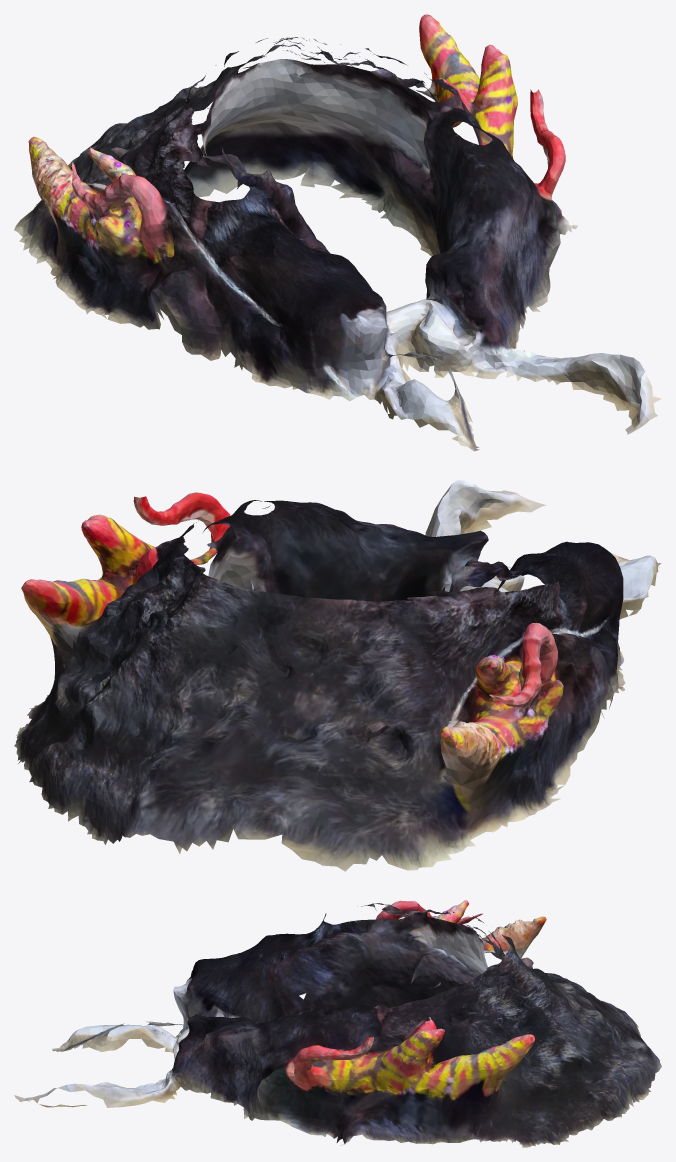
The model's file is Shuo_Xi.glb.
3 views of the same model, one above another, from view 1: azimuth 30°, elevation 25°; view 2: azimuth 150°, elevation 25°; view 3: azimuth 270°, elevation 25° (orthographic). The views are drawn at different scales.
Parts seen in each view (by area): view 1: Mesh_0; view 2: Mesh_0; view 3: Mesh_0.
Part boxes in pixels (x1,y1,x2,y2): Mesh_0: [14, 14, 661, 451]; Mesh_0: [14, 480, 661, 871]; Mesh_0: [14, 900, 661, 1147].
Bounding box in the file's own units: 2.43 × 0.9459 × 4.01.
1 material, 1 textured.
